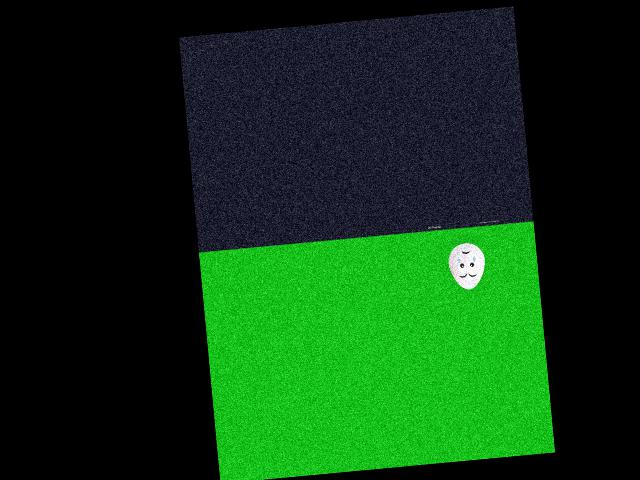egg: (447, 241, 487, 290)
